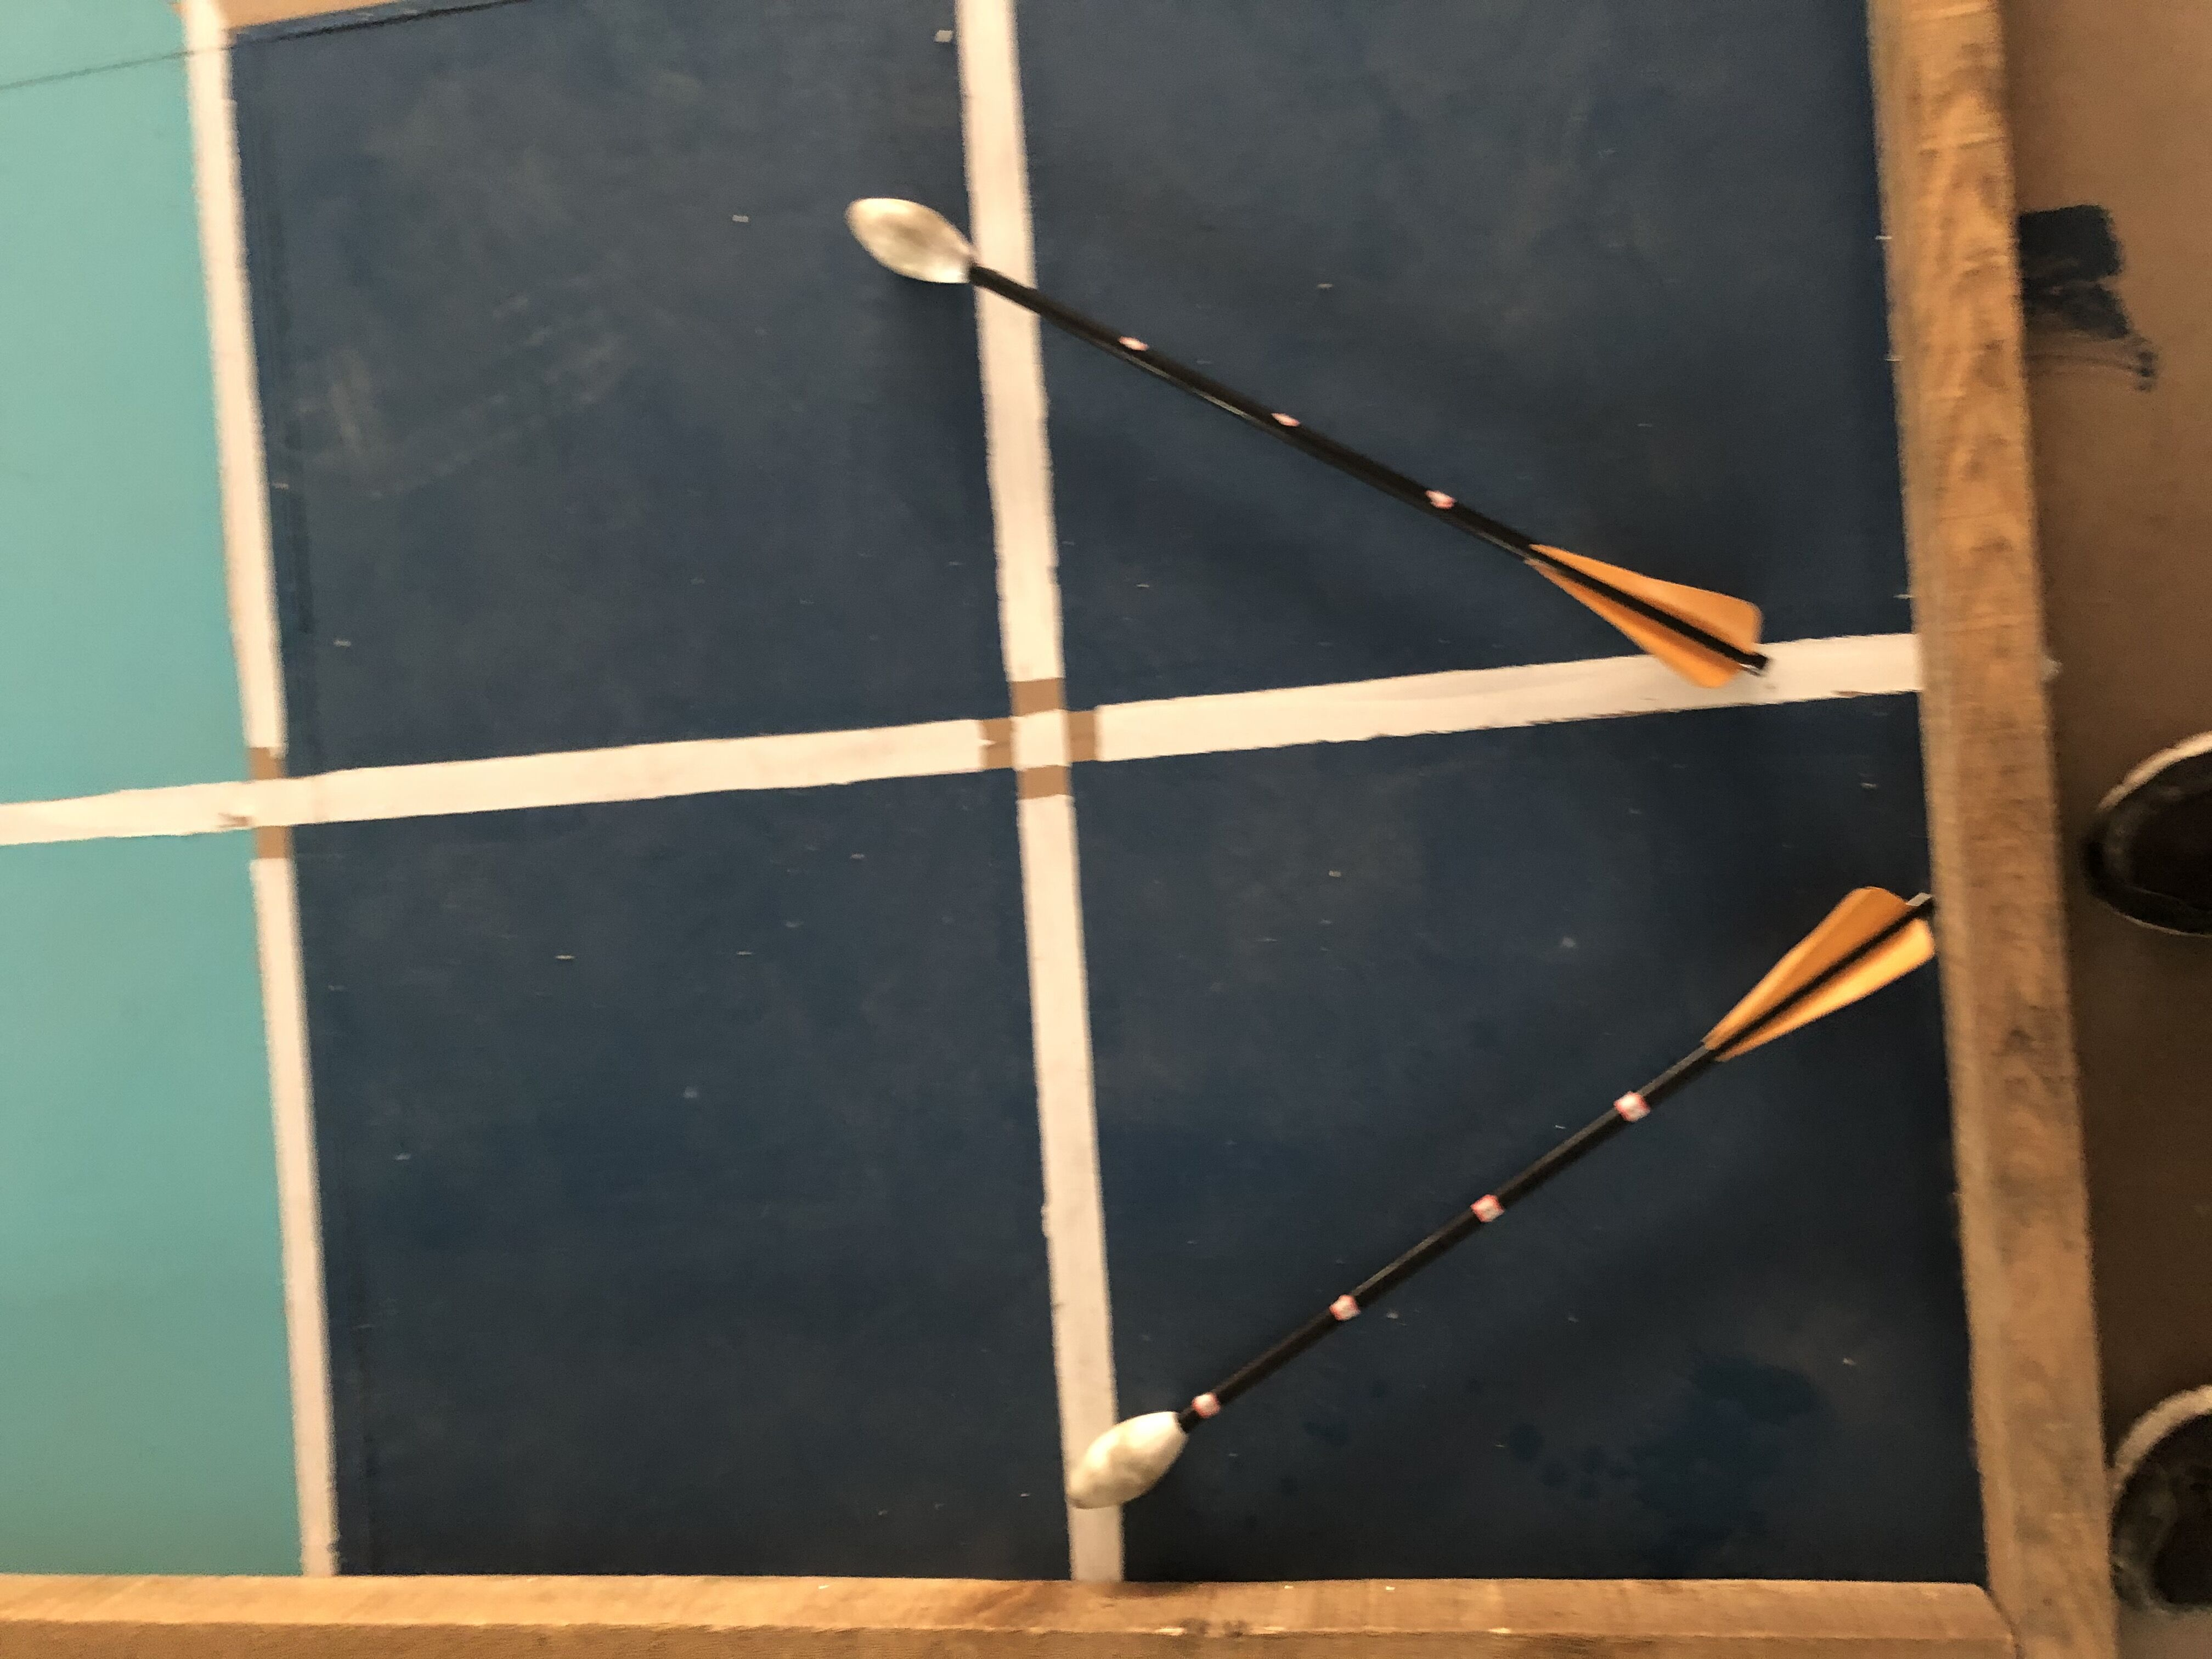arrow: (1069, 882, 1944, 1513), (846, 195, 1771, 692)
arrowFront: (1064, 1405, 1193, 1511), (845, 197, 984, 291)
